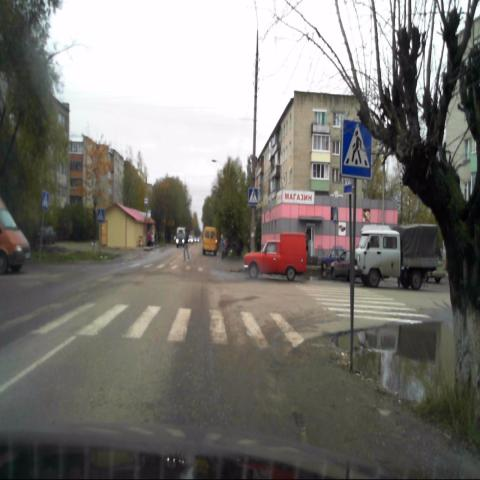5_19_1: (341, 118, 372, 180), (248, 187, 258, 207), (40, 193, 48, 209), (97, 207, 104, 222)
